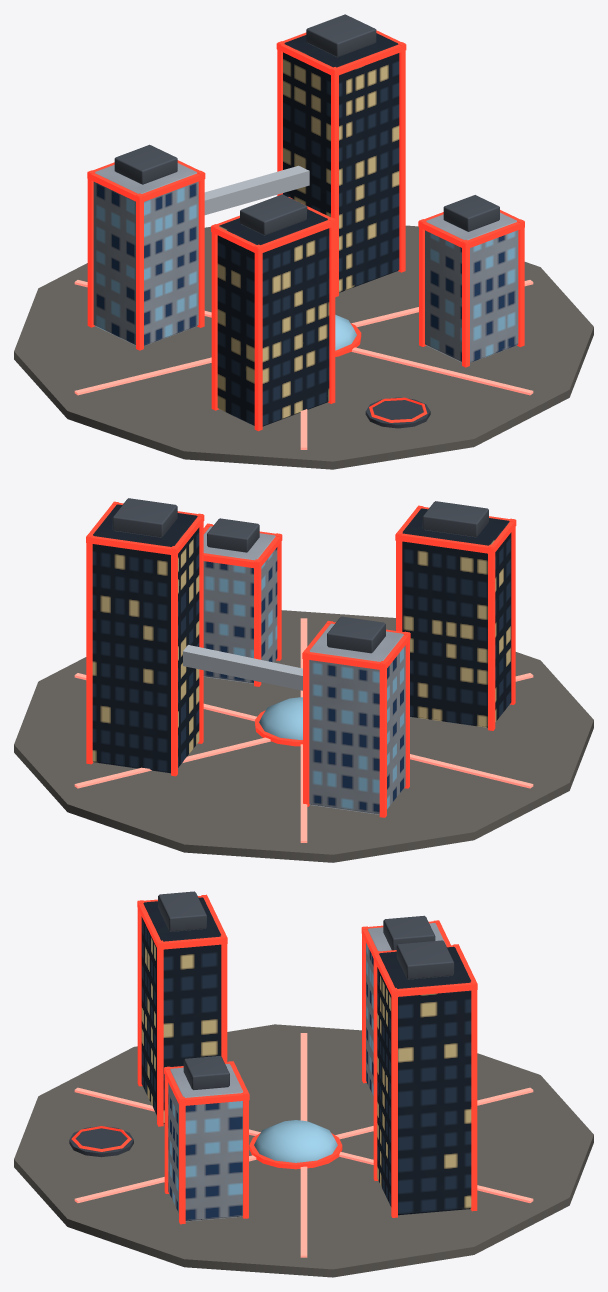
The model's file is district_scifi_red.glb.
3 views of the same model, one above another, from view 1: azimuth 30°, elevation 25°; view 2: azimuth 150°, elevation 25°; view 3: azimuth 270°, elevation 25° (orthographic).
Parts seen in each view (by area): view 1: district_scifi_red; view 2: district_scifi_red; view 3: district_scifi_red.
Part boxes in pixels (<box>): district_scifi_red: <box>14,14,593,469</box>; district_scifi_red: <box>14,498,593,862</box>; district_scifi_red: <box>14,891,593,1277</box>.
Bounding box in the file's own units: 1.43 × 0.726 × 1.43.
Materials: 3 (1 with a texture image).
